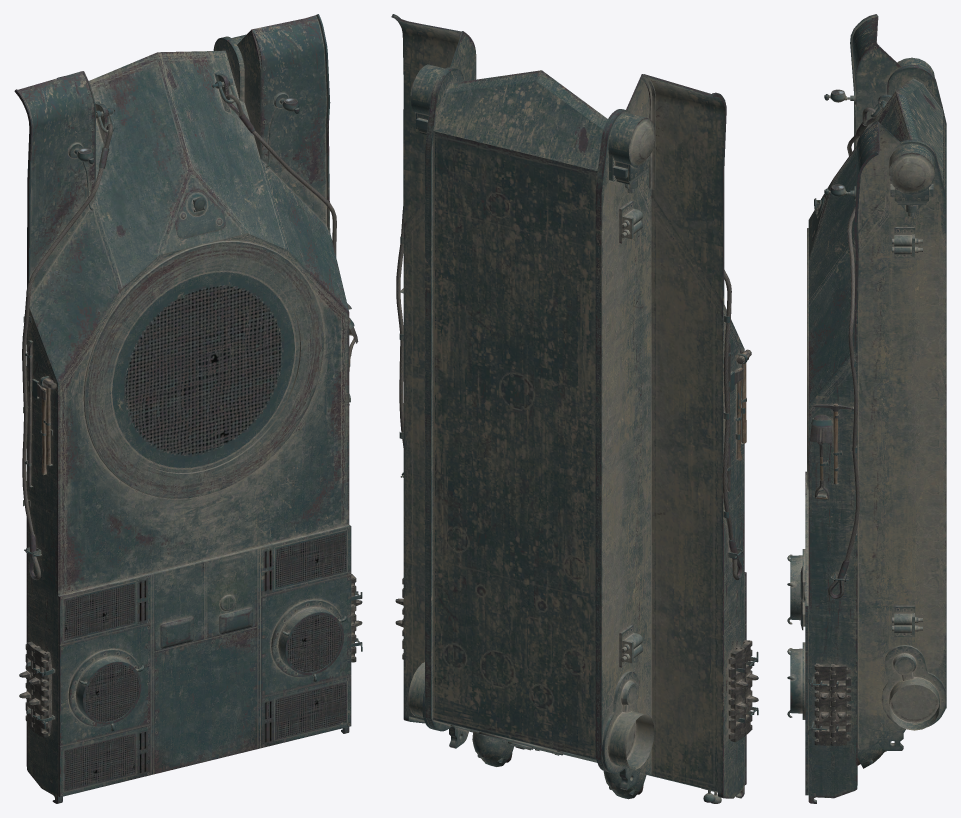
Rendered from Hull.glb.
3 renders of one model, left to right at view 1: azimuth 30°, elevation 25°; view 2: azimuth 150°, elevation 25°; view 3: azimuth 270°, elevation 25°, orthographic. The views are drawn at different scales.
Parts seen in each view (by area): view 1: set_0_group_0; view 2: set_0_group_0; view 3: set_0_group_0.
Part boxes in pixels (x1,y1,x2,y2): set_0_group_0: (14, 14, 362, 803); set_0_group_0: (391, 14, 758, 803); set_0_group_0: (787, 14, 946, 803).
Bounding box in the file's own units: 3.72 × 7.43 × 1.63.
1 material, 1 textured.
